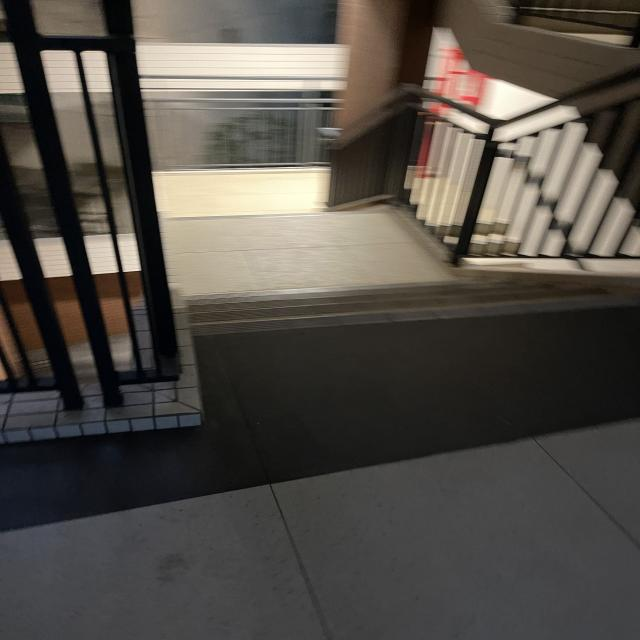Stairs: (159, 216, 640, 358)
